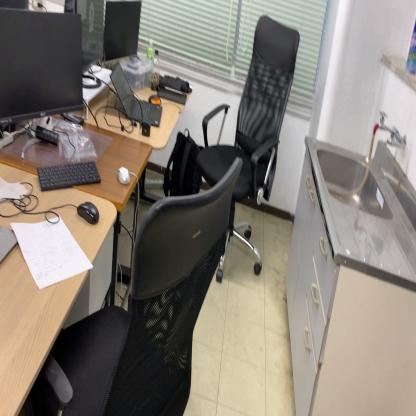chair: (44, 156, 245, 416), (196, 9, 301, 286)
